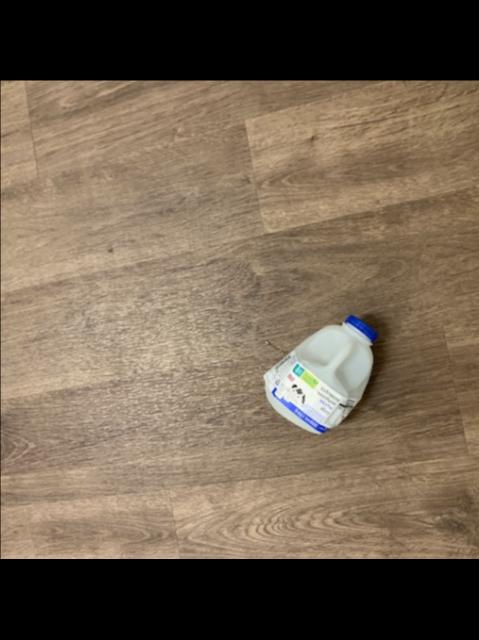plastic: (260, 315, 374, 432)
